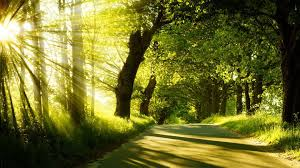forest: (3, 2, 296, 166)
tree: (200, 1, 300, 134), (103, 6, 172, 124)
